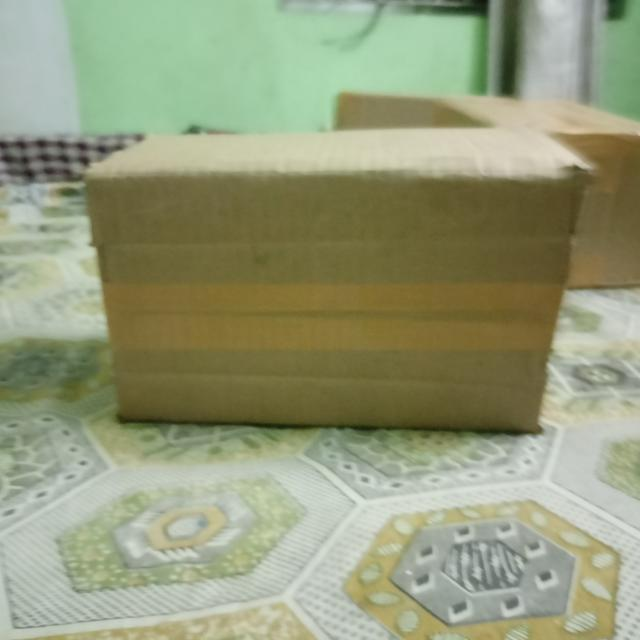box: (89, 169, 590, 432)
